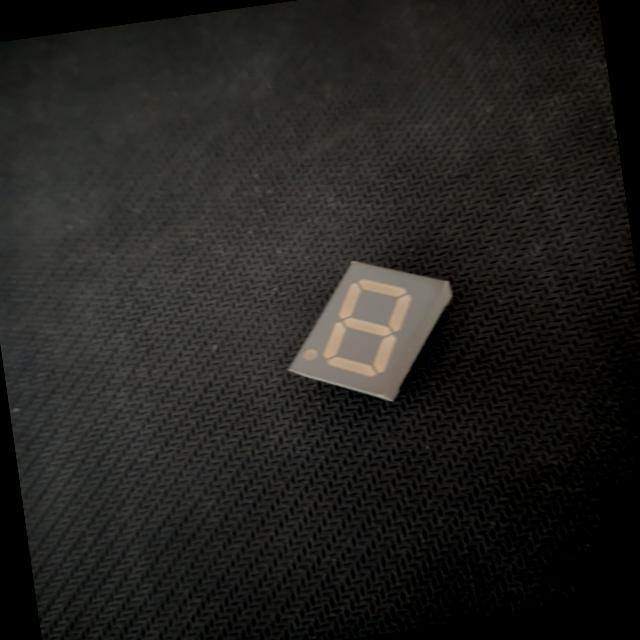sevensegment: (246, 235, 484, 430)
